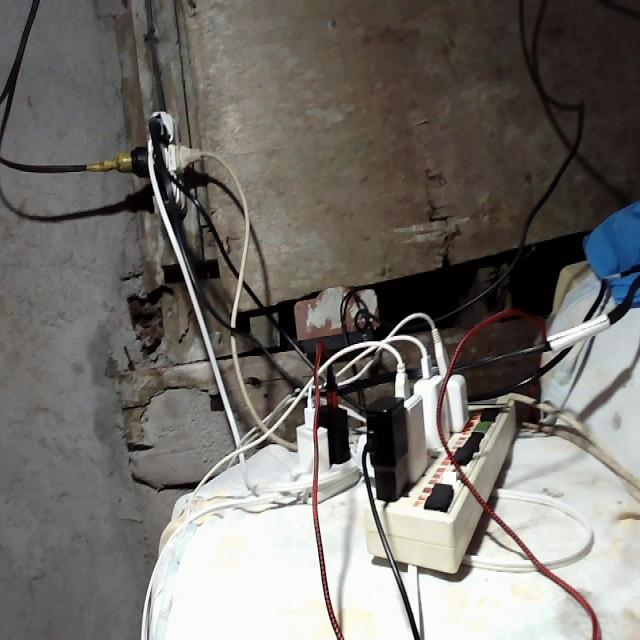-: (127, 105, 200, 219)
